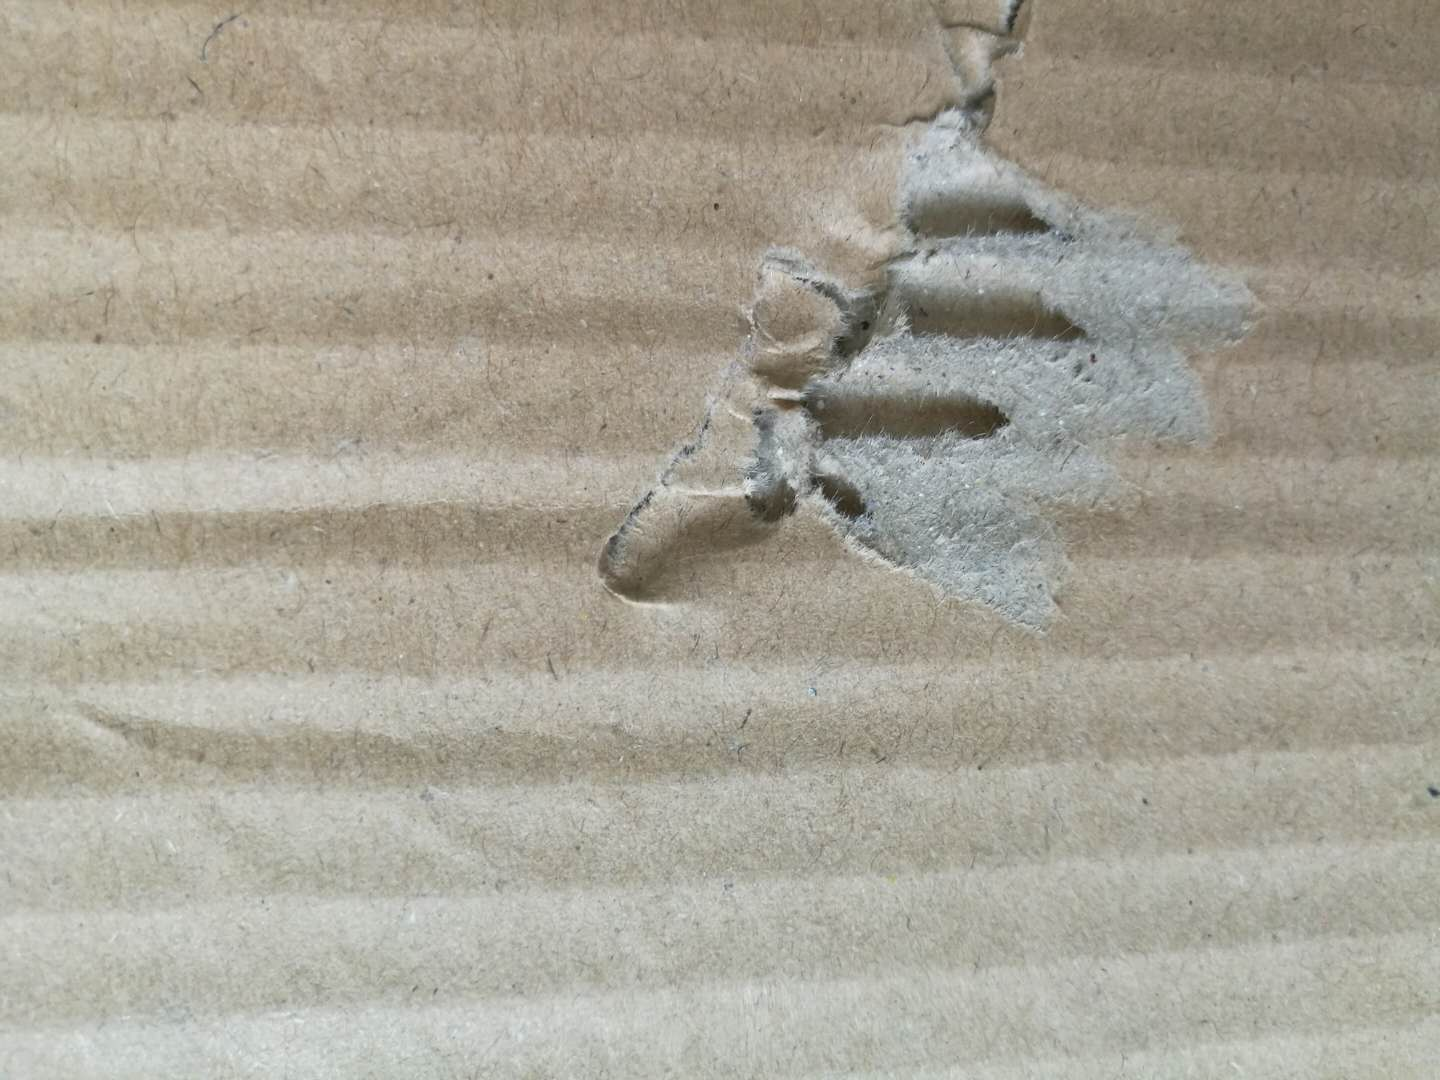defect: (532, 2, 1318, 677)
